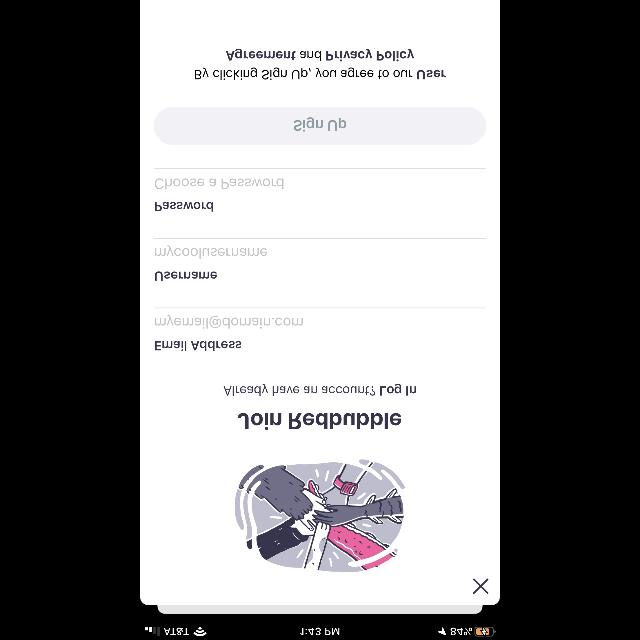icon: (474, 578, 488, 594)
image: (235, 458, 405, 572)
input: (154, 168, 486, 190), (154, 238, 486, 260), (154, 308, 486, 328)
text: (196, 49, 447, 80), (238, 414, 402, 431), (224, 384, 416, 396), (155, 315, 303, 329), (155, 245, 267, 259), (156, 178, 284, 190), (155, 341, 241, 351), (155, 202, 213, 212), (155, 272, 217, 280)
textbutton: (154, 107, 486, 145)
uppertaskbar: (140, 626, 500, 640)
